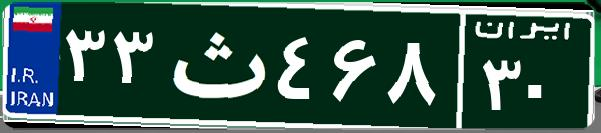0: (525, 38, 570, 115)
3: (57, 26, 110, 107), (475, 38, 525, 113), (110, 28, 158, 105)
4: (273, 28, 330, 110)
6: (330, 28, 385, 110)
8: (385, 28, 445, 110)
ث: (158, 15, 273, 115)
